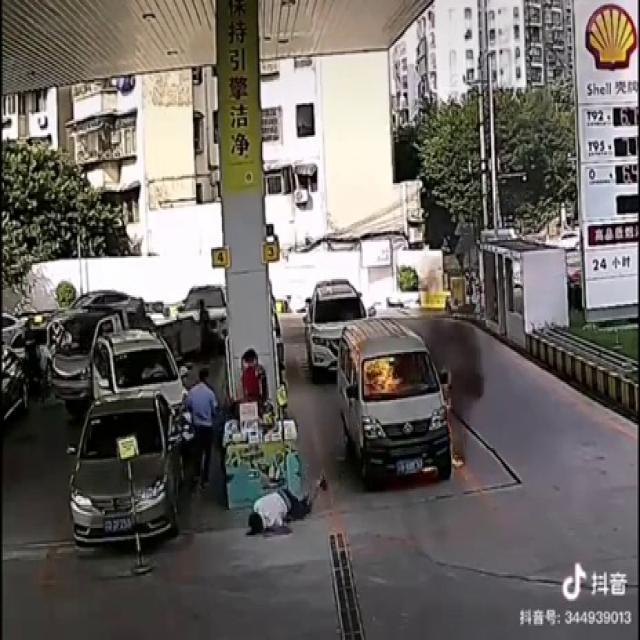Fire: (358, 348, 403, 398)
Smoke: (414, 295, 489, 407)
